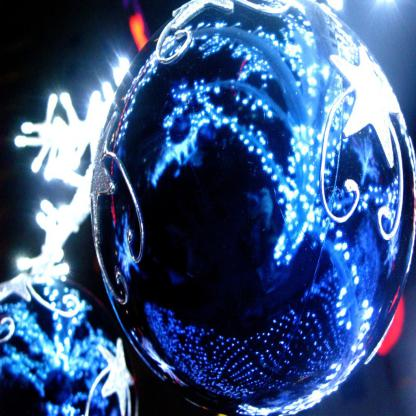Ball: (90, 0, 416, 416)
